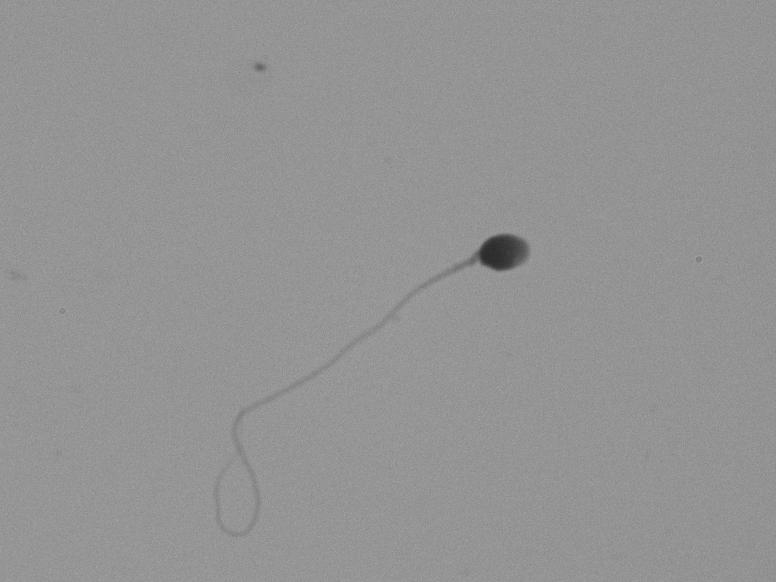Normal: (203, 128, 562, 545)
